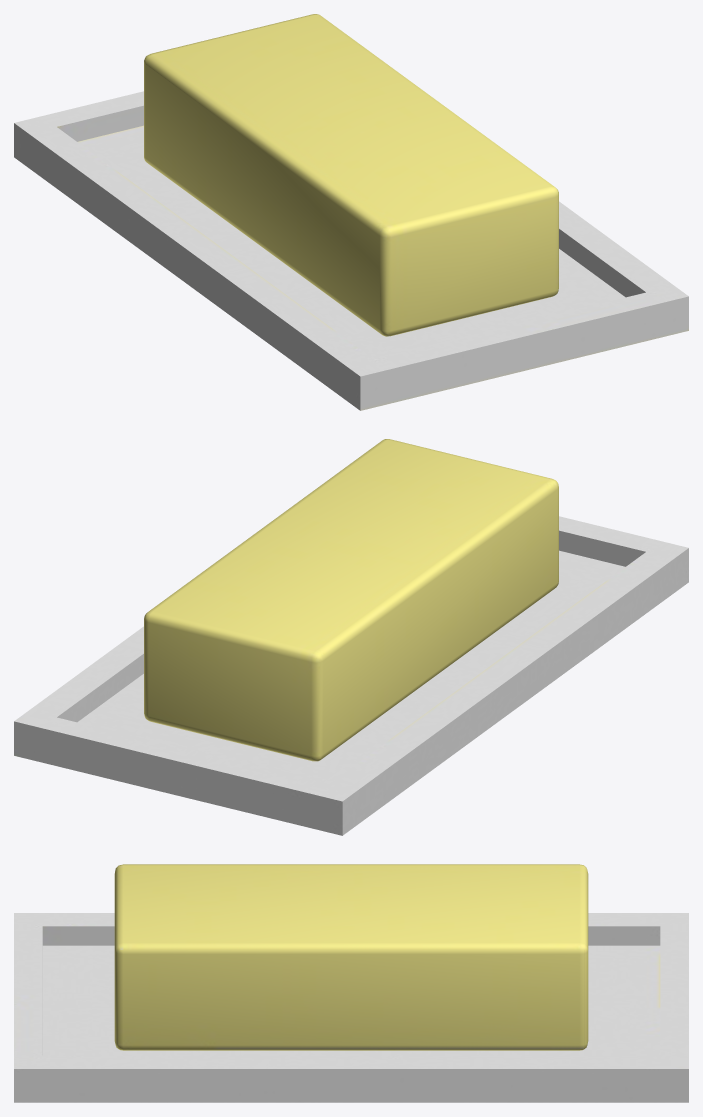
File: Butter.fbx
The picture shows the model from 3 angles, top to bottom: view 1: azimuth 30°, elevation 25°; view 2: azimuth 150°, elevation 25°; view 3: azimuth 270°, elevation 25°; orthographic projection. The views are drawn at different scales.
Parts seen in each view (by area): view 1: Butter; view 2: Butter; view 3: Butter.
Part boxes in pixels (bbox=[...]): Butter: bbox=[14, 14, 688, 410]; Butter: bbox=[14, 439, 688, 835]; Butter: bbox=[14, 864, 688, 1102].
Size of the model in its own units: 3.56 by 1.28 by 6.5.
Materials: 1 (1 with a texture image).
